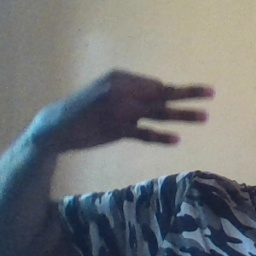K: (47, 67, 219, 154)
